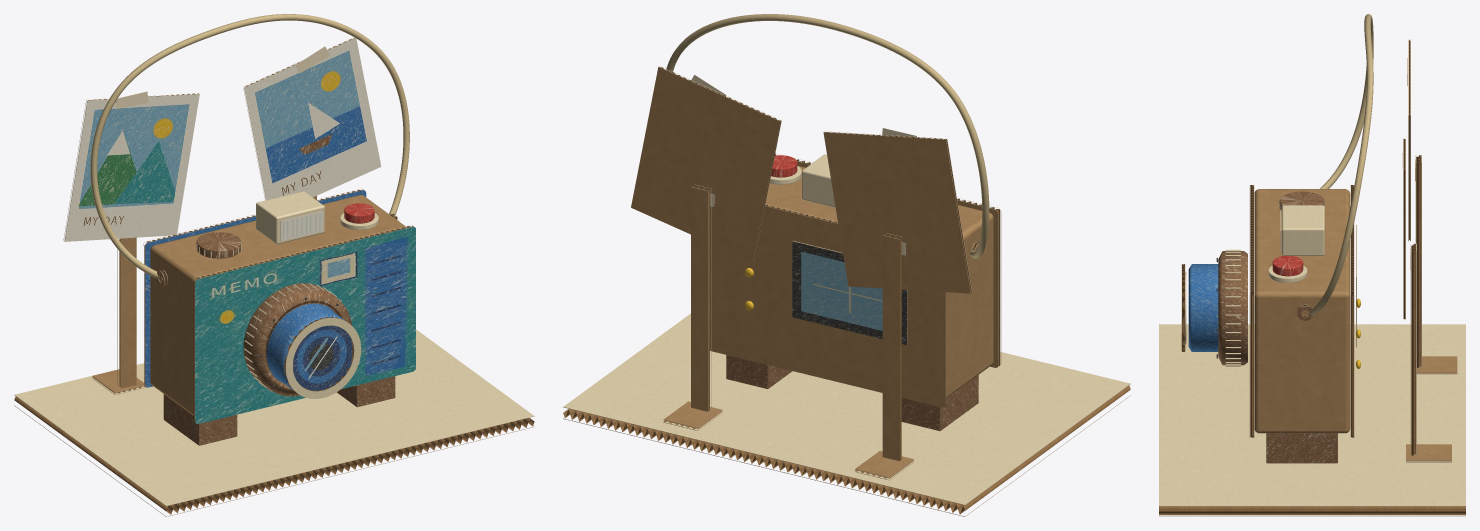
Rendered from 15_memory_camera.glb.
3 renders of one model, left to right at view 1: azimuth 30°, elevation 25°; view 2: azimuth 150°, elevation 25°; view 3: azimuth 270°, elevation 25°, orthographic. The views are drawn at different scales.
Parts seen in each view (by area): view 1: artwork_15_memory_camera, cream, kraft, brown, flute, twine, blue, edge, tape; view 2: kraft, cream, flute, artwork_15_memory_camera, twine, edge, brown; view 3: cream, kraft, flute, brown, edge, twine, blue, red.
Part boxes in pixels (x1=…): artwork_15_memory_camera: x1=64, y1=38, x2=415, y2=423; cream: x1=14, y1=191, x2=533, y2=505; kraft: x1=92, y1=195, x2=406, y2=415; brown: x1=163, y1=232, x2=395, y2=445; flute: x1=14, y1=37, x2=534, y2=514; twine: x1=90, y1=14, x2=409, y2=278; blue: x1=145, y1=190, x2=366, y2=390; edge: x1=14, y1=37, x2=534, y2=516; tape: x1=116, y1=46, x2=329, y2=108; kraft: x1=631, y1=67, x2=998, y2=477; cream: x1=563, y1=154, x2=1130, y2=504; flute: x1=563, y1=67, x2=1130, y2=514; artwork_15_memory_camera: x1=792, y1=241, x2=907, y2=344; twine: x1=666, y1=14, x2=989, y2=258; edge: x1=563, y1=66, x2=1130, y2=516; brown: x1=726, y1=355, x2=978, y2=430; cream: x1=1159, y1=200, x2=1465, y2=505; kraft: x1=1254, y1=189, x2=1457, y2=459; flute: x1=1159, y1=40, x2=1465, y2=515; brown: x1=1218, y1=191, x2=1337, y2=463; edge: x1=1159, y1=39, x2=1465, y2=516; twine: x1=1310, y1=14, x2=1373, y2=315; blue: x1=1188, y1=264, x2=1218, y2=351; red: x1=1272, y1=255, x2=1303, y2=276.
Size of the model in its own units: 0.42 by 0.4101 by 0.3.
13 materials, 11 textured.
